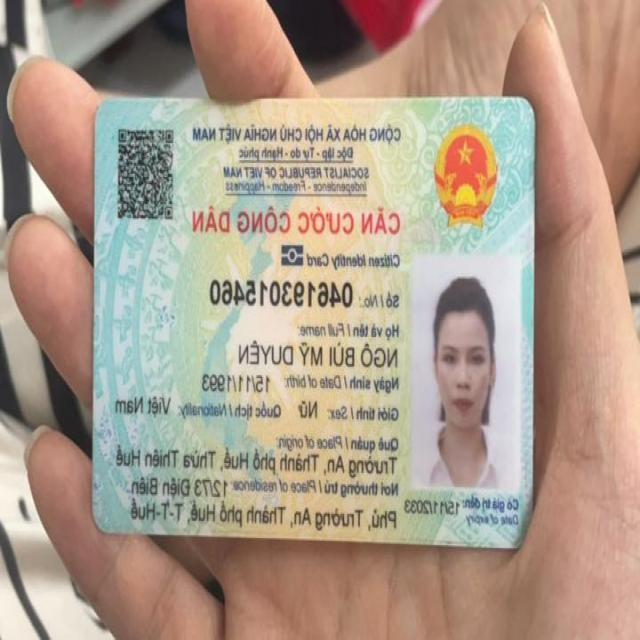bottom_left: (496, 508, 550, 566)
bottom_right: (80, 502, 121, 545)
image_person: (406, 256, 522, 493)
top_left: (507, 86, 548, 132)
top_right: (84, 89, 123, 128)
